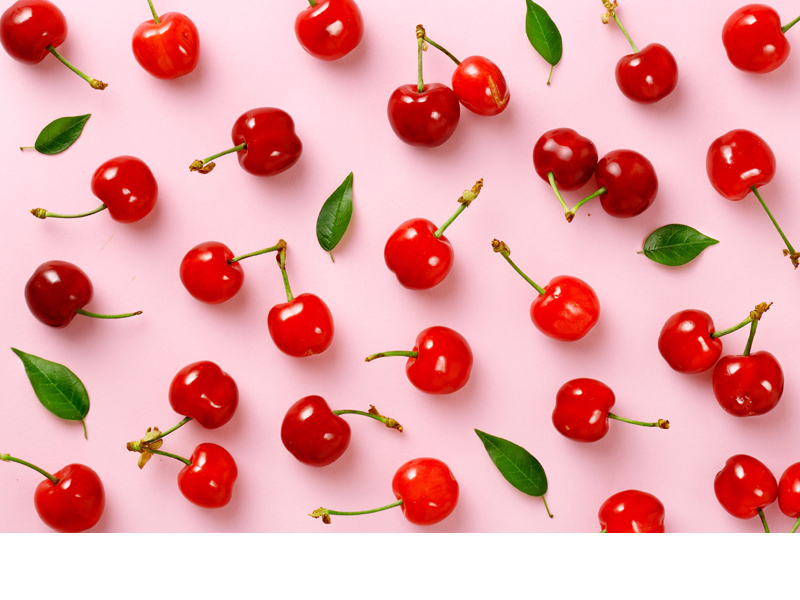cherry: (488, 219, 603, 344), (376, 172, 481, 294), (272, 381, 401, 466), (20, 257, 145, 342), (26, 155, 167, 229), (352, 317, 478, 398), (1, 441, 112, 531), (192, 102, 305, 188), (598, 4, 686, 114), (337, 457, 460, 535), (540, 371, 674, 439), (704, 123, 787, 232), (177, 224, 267, 306), (257, 272, 336, 361), (160, 361, 243, 434), (127, 10, 209, 82), (174, 441, 241, 513)
